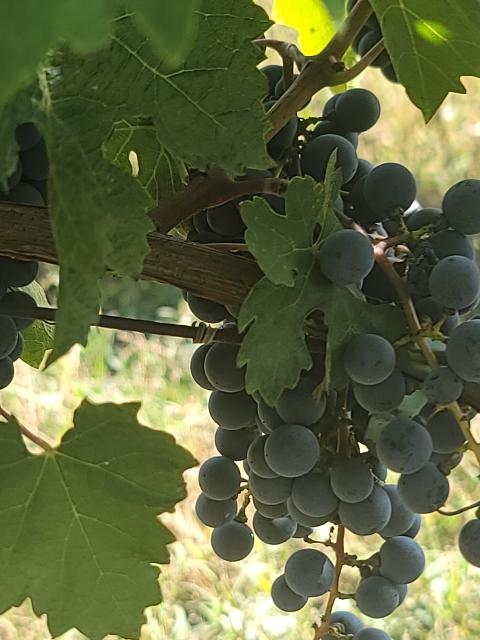grapes: (196, 162, 480, 640)
